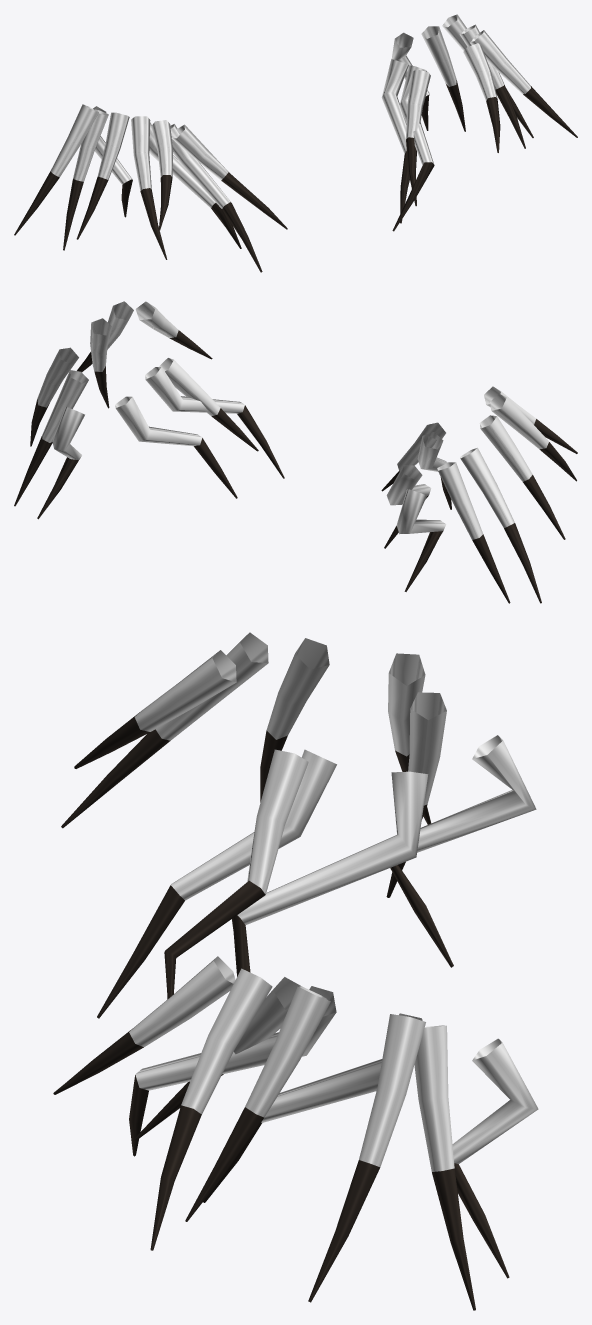
File: vincentt-nasal-hair-bushy-tufts.glb
3 renders of one model, top to bottom at view 1: azimuth 30°, elevation 25°; view 2: azimuth 150°, elevation 25°; view 3: azimuth 270°, elevation 25°, orthographic. The views are drawn at different scales.
Parts seen in each view (by area): view 1: nhb_sty_hair, nhb_sty_tips; view 2: nhb_sty_hair, nhb_sty_tips; view 3: nhb_sty_hair, nhb_sty_tips.
Boxes of the visible parts, left/top/right/bottom form: nhb_sty_hair: left=50, top=14, right=530, bottom=208; nhb_sty_tips: left=14, top=80, right=577, bottom=272; nhb_sty_hair: left=37, top=301, right=549, bottom=539; nhb_sty_tips: left=14, top=330, right=577, bottom=603; nhb_sty_hair: left=129, top=632, right=538, bottom=1171; nhb_sty_tips: left=53, top=712, right=509, bottom=1310.
Size of what is drawn, in the model's own units: 0.0251 by 0.00784 by 0.0107.
2 materials, 2 textured.
